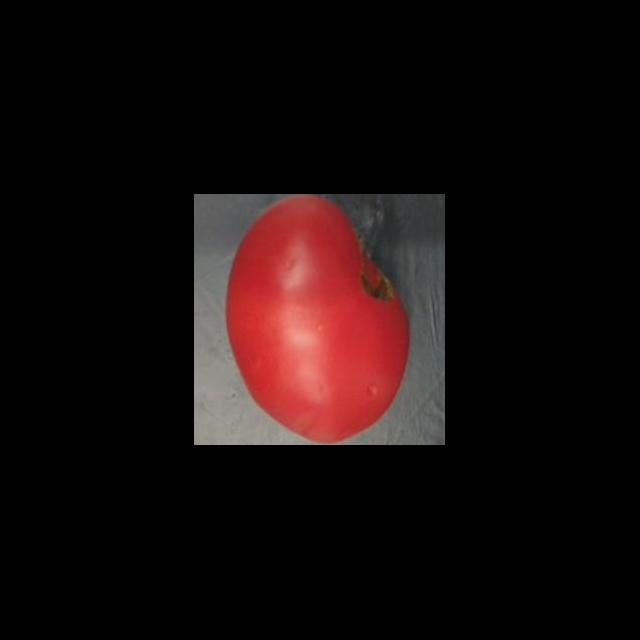tomato: (226, 196, 407, 442)
